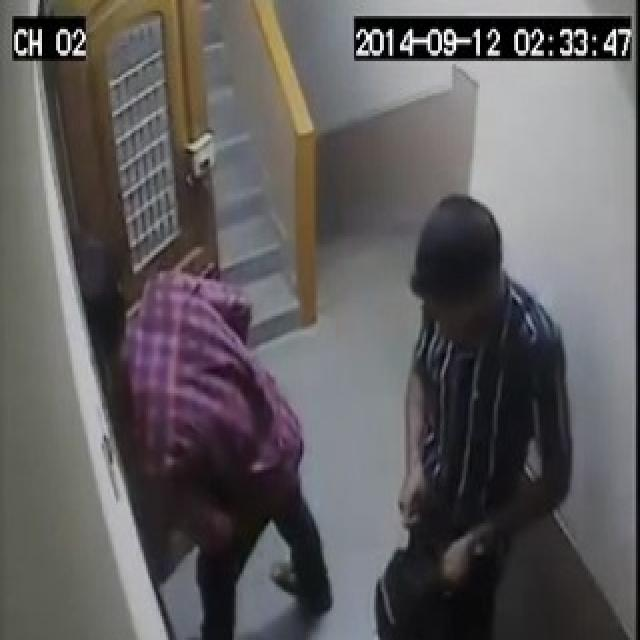burglary: (66, 270, 267, 568)
